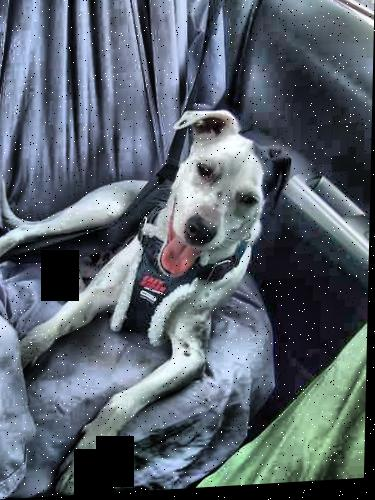seatbelt: (160, 1, 233, 193)
